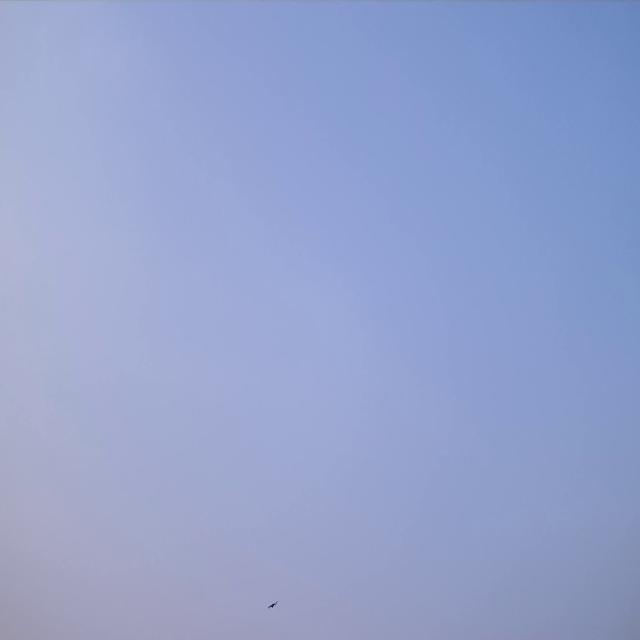UAV: (268, 602, 276, 608)
